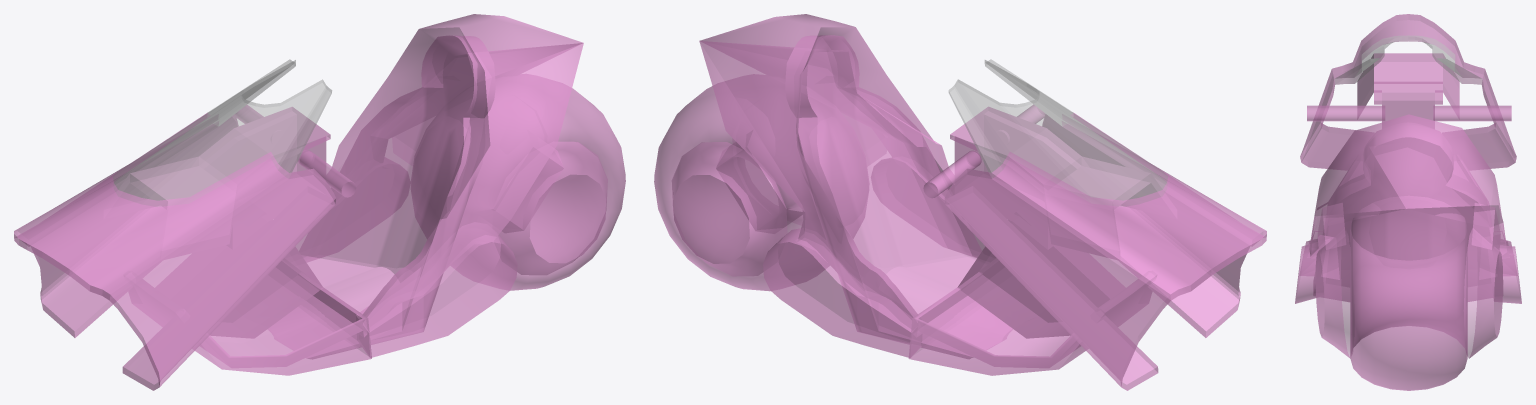
File: Lightrunner.fbx
3 views of the same model, side by side, from view 1: azimuth 30°, elevation 25°; view 2: azimuth 150°, elevation 25°; view 3: azimuth 270°, elevation 25° (orthographic). The views are drawn at different scales.
Parts seen in each view (by area): view 1: pCube7; view 2: pCube7; view 3: pCube7.
Boxes of the visible parts, box(x1,y1,x2,y2) form: pCube7: box(14, 14, 625, 390); pCube7: box(654, 14, 1266, 390); pCube7: box(1295, 14, 1521, 390).
Size of the model in its own units: 15.86 by 6.84 by 5.81.
